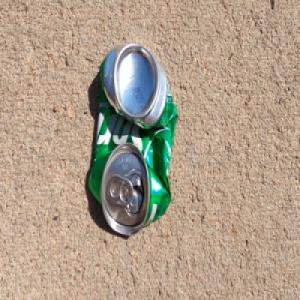SodaCan: (87, 40, 178, 236)
